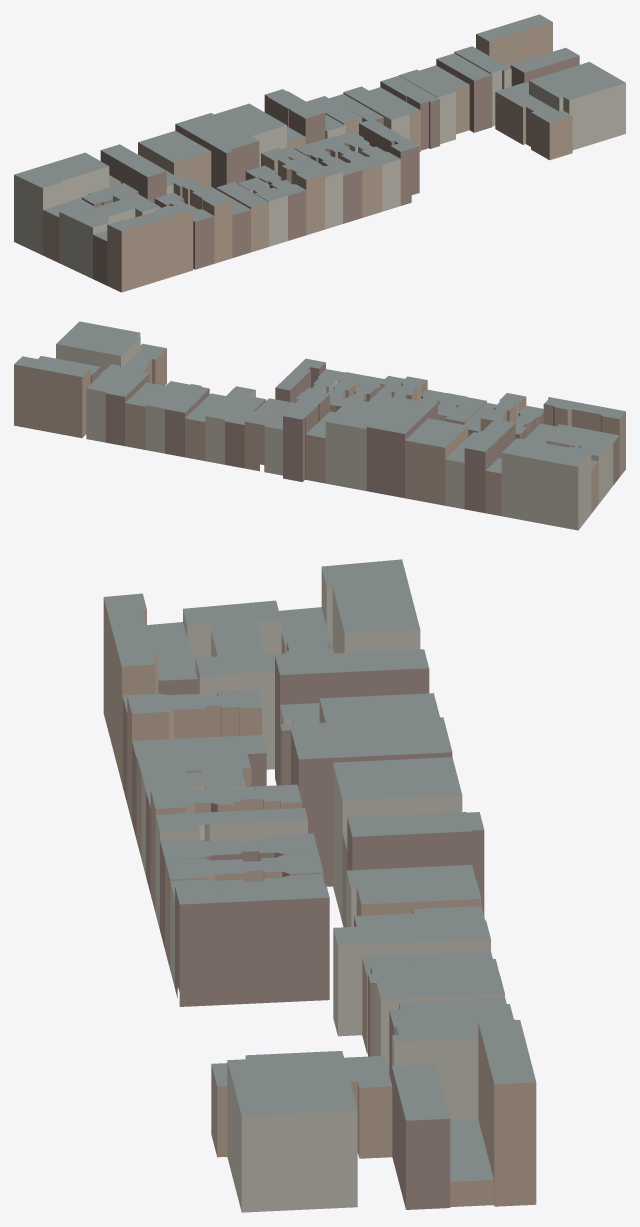
The picture shows the model from 3 angles, top to bottom: view 1: azimuth 30°, elevation 25°; view 2: azimuth 150°, elevation 25°; view 3: azimuth 270°, elevation 25°; orthographic projection. The views are drawn at different scales.
Visible parts, largest first — view 1: C9; view 2: C9; view 3: C9.
Boxes of the visible parts, x1=… form: C9: x1=14, y1=14, x2=625, y2=292; C9: x1=14, y1=321, x2=625, y2=530; C9: x1=103, y1=559, x2=536, y2=1212.
Size of the model in its own units: 219 by 24.95 by 76.12.
